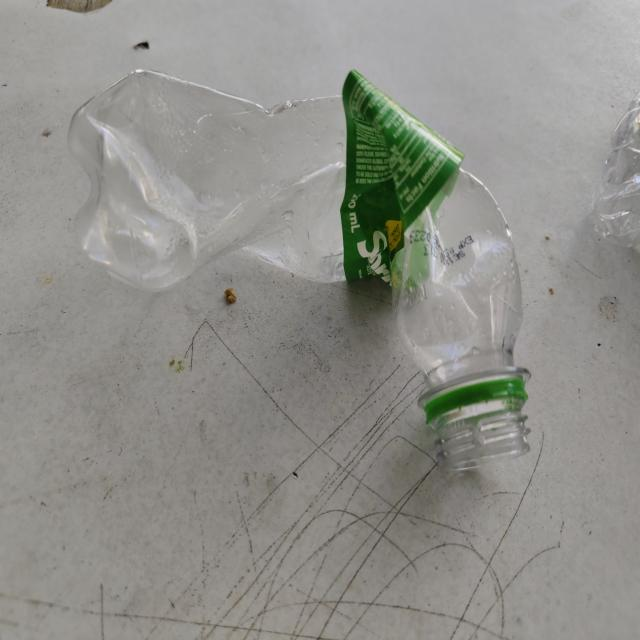Bottle: (61, 70, 529, 471)
